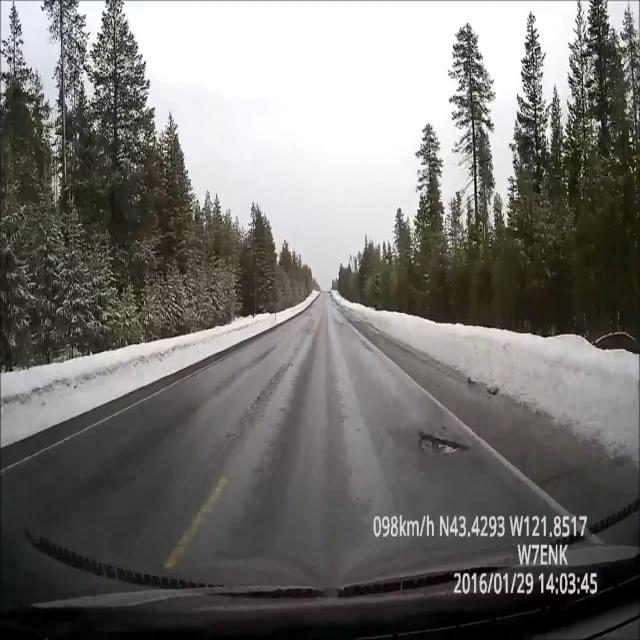Pothole: (414, 420, 484, 468)
